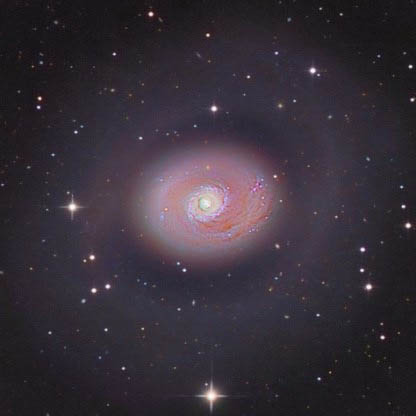Messier 94: (31, 43, 390, 379)
